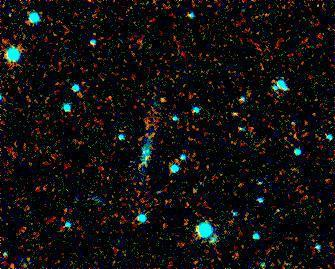star: (147, 86, 177, 116)
